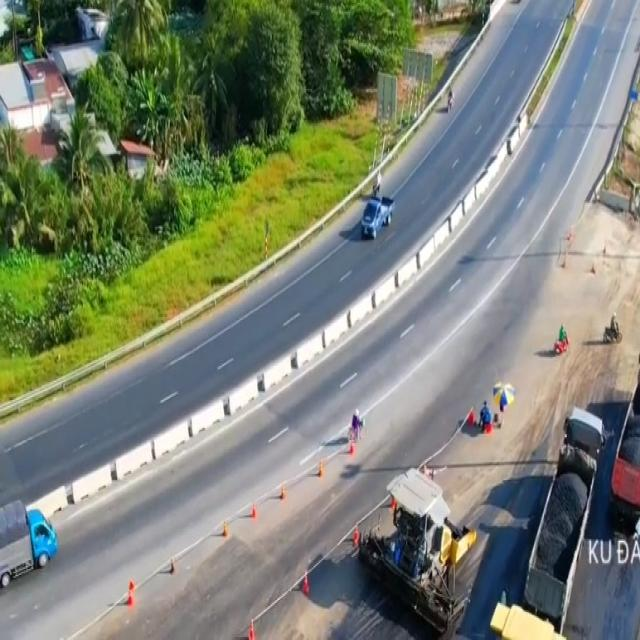motorbike: (360, 186, 392, 242), (553, 325, 571, 356), (605, 316, 621, 342)
